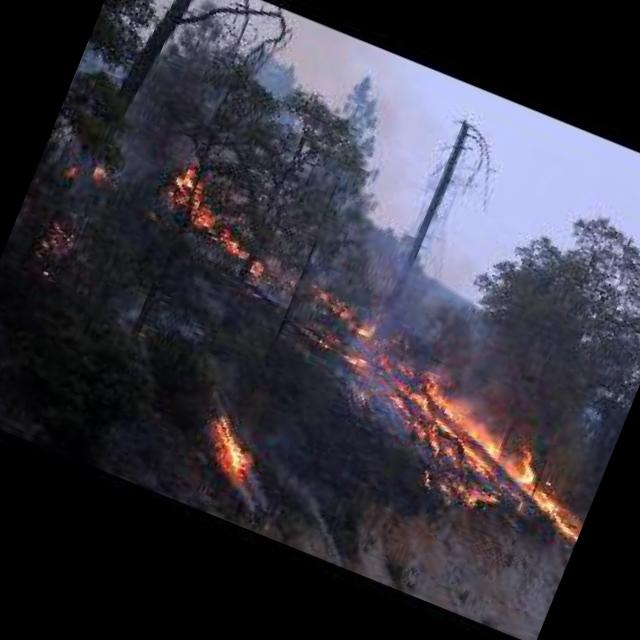fire: (254, 276, 630, 550), (152, 158, 268, 263), (185, 406, 279, 490)
